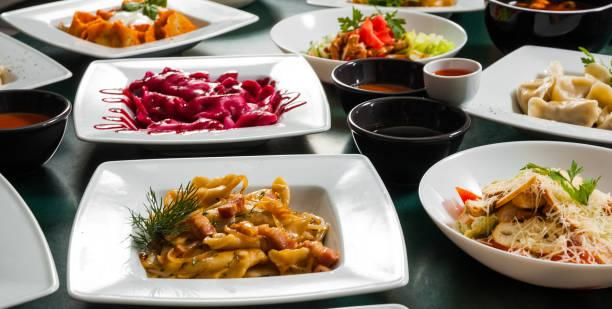Braised Crucian Carp: (70, 154, 413, 298), (419, 139, 609, 288), (60, 50, 338, 145), (461, 44, 610, 152), (8, 0, 258, 61), (271, 6, 464, 85)
